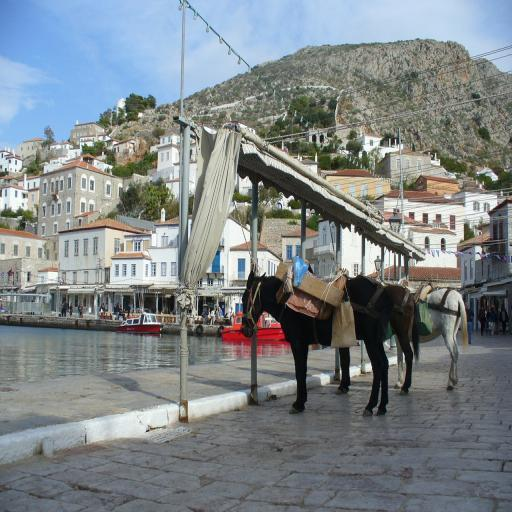horse: (241, 272, 395, 417), (336, 286, 422, 394), (394, 288, 470, 390)
